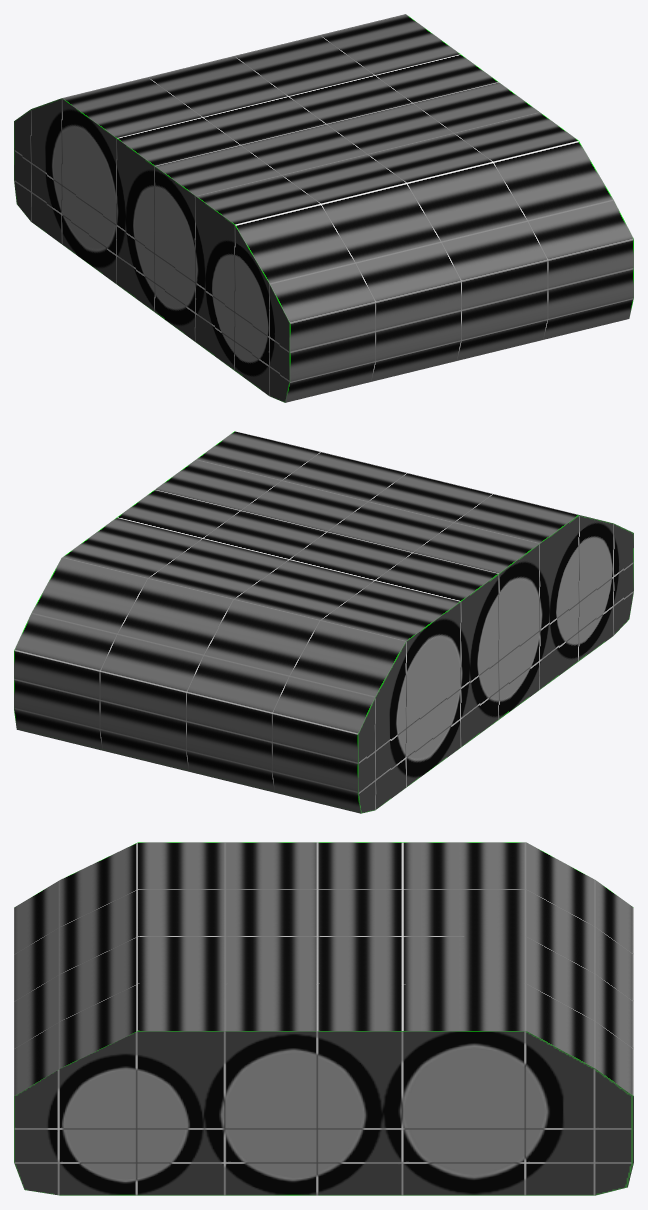
File: player_wheel.FBX
3 views of the same model, one above another, from view 1: azimuth 30°, elevation 25°; view 2: azimuth 150°, elevation 25°; view 3: azimuth 270°, elevation 25° (orthographic). The views are drawn at different scales.
Visible parts, largest first — view 1: Box001; view 2: Box001; view 3: Box001.
Part boxes in pixels (bbox=[...]): Box001: bbox=[14, 14, 633, 402]; Box001: bbox=[14, 431, 633, 813]; Box001: bbox=[14, 842, 633, 1195].
Size of the model in its own units: 76.48 by 31.04 by 106.
